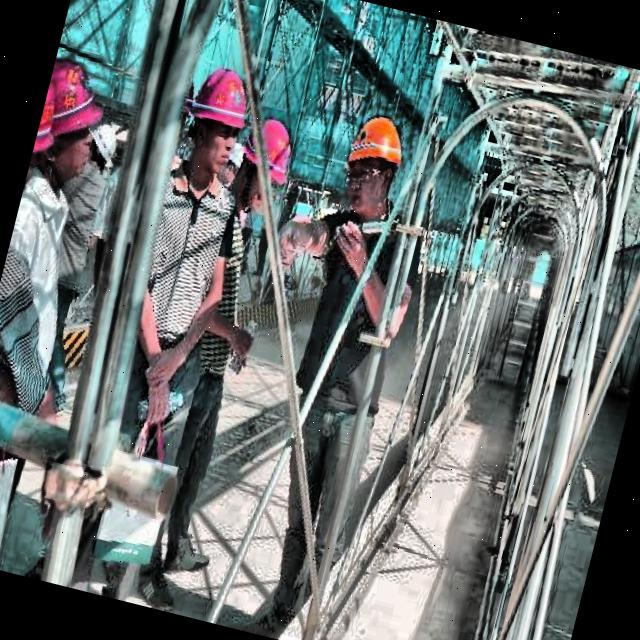helmet: (167, 49, 263, 188), (330, 99, 416, 226), (31, 48, 116, 175), (230, 113, 302, 210), (78, 116, 126, 180)
